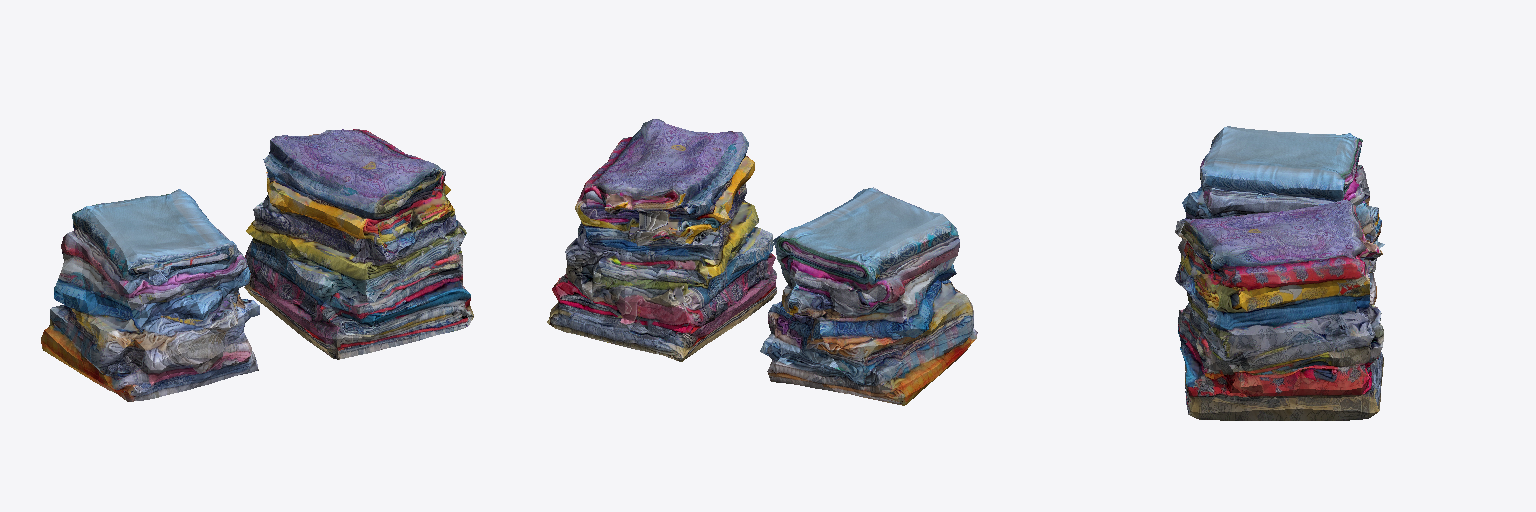
3 renders of one model, left to right at view 1: azimuth 30°, elevation 25°; view 2: azimuth 150°, elevation 25°; view 3: azimuth 270°, elevation 25°, orthographic.
Parts seen in each view (by area): view 1: PileofClothes4, PileofClothes3; view 2: PileofClothes4, PileofClothes3; view 3: PileofClothes4, PileofClothes3.
Boxes of the visible parts, x1,y1,x2,y2 form: PileofClothes4: [244, 129, 473, 359]; PileofClothes3: [41, 189, 259, 401]; PileofClothes4: [547, 119, 776, 361]; PileofClothes3: [760, 187, 977, 405]; PileofClothes4: [1175, 199, 1383, 420]; PileofClothes3: [1175, 126, 1384, 304].
Bounding box in the file's own units: 26.54 × 11.41 × 13.2.
Materials: 2 (2 with a texture image).